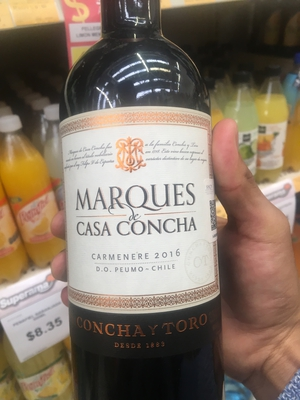marques de casa concha carmenere: (55, 20, 228, 389)
